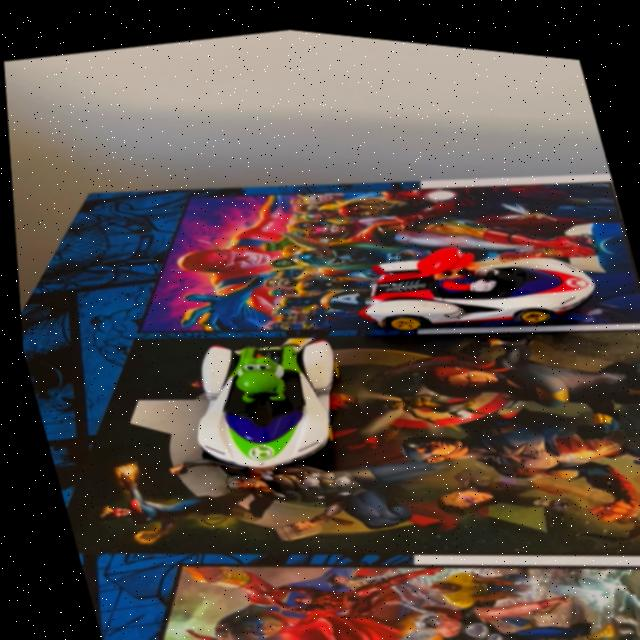mario: (330, 193, 609, 362)
yoshi: (153, 301, 370, 495)
